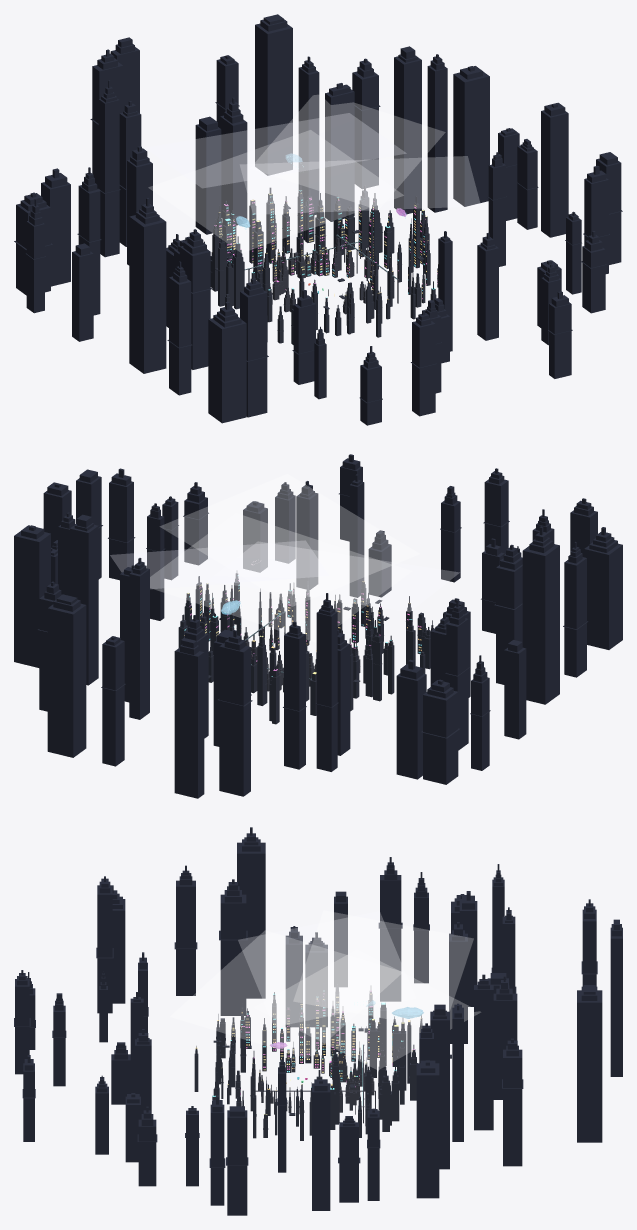
Rendered from Hesperus_DistantCity.glb.
The picture shows the model from 3 angles, top to bottom: view 1: azimuth 30°, elevation 25°; view 2: azimuth 150°, elevation 25°; view 3: azimuth 270°, elevation 25°; orthographic projection. The views are drawn at different scales.
Visible parts, largest first — view 1: DistantCity_Far, DistantCity_Clouds, DistantCity_Mid, DistantCity_Near; view 2: DistantCity_Far, DistantCity_Clouds, DistantCity_Mid, DistantCity_Near; view 3: DistantCity_Far, DistantCity_Clouds, DistantCity_Mid, DistantCity_Near.
Boxes of the visible parts, box(x1,y1,x2,y2) form: DistantCity_Far: box(14, 14, 622, 425); DistantCity_Clouds: box(146, 92, 480, 252); DistantCity_Mid: box(204, 184, 438, 344); DistantCity_Near: box(270, 238, 374, 314); DistantCity_Far: box(14, 454, 622, 798); DistantCity_Clouds: box(110, 474, 459, 642); DistantCity_Mid: box(178, 573, 433, 724); DistantCity_Near: box(243, 619, 360, 692); DistantCity_Far: box(14, 827, 622, 1215); DistantCity_Clouds: box(170, 910, 480, 1069); DistantCity_Mid: box(194, 984, 422, 1140); DistantCity_Near: box(258, 1041, 374, 1114).
Size of the model in its own units: 1395 by 465 by 1506.
